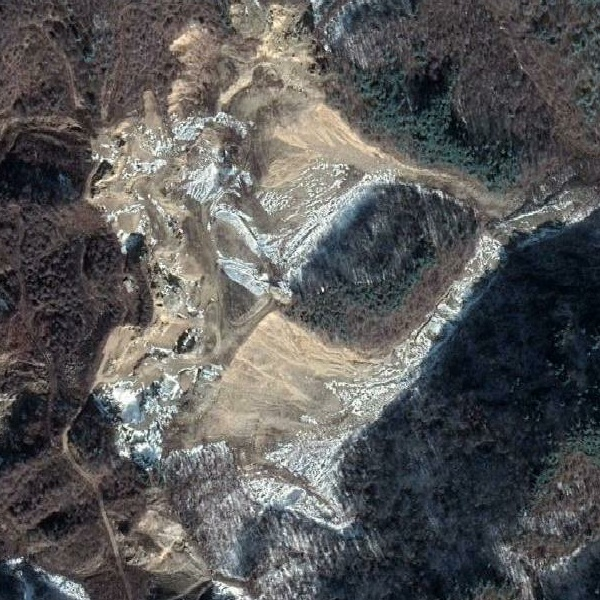slope: (83, 1, 599, 598)
